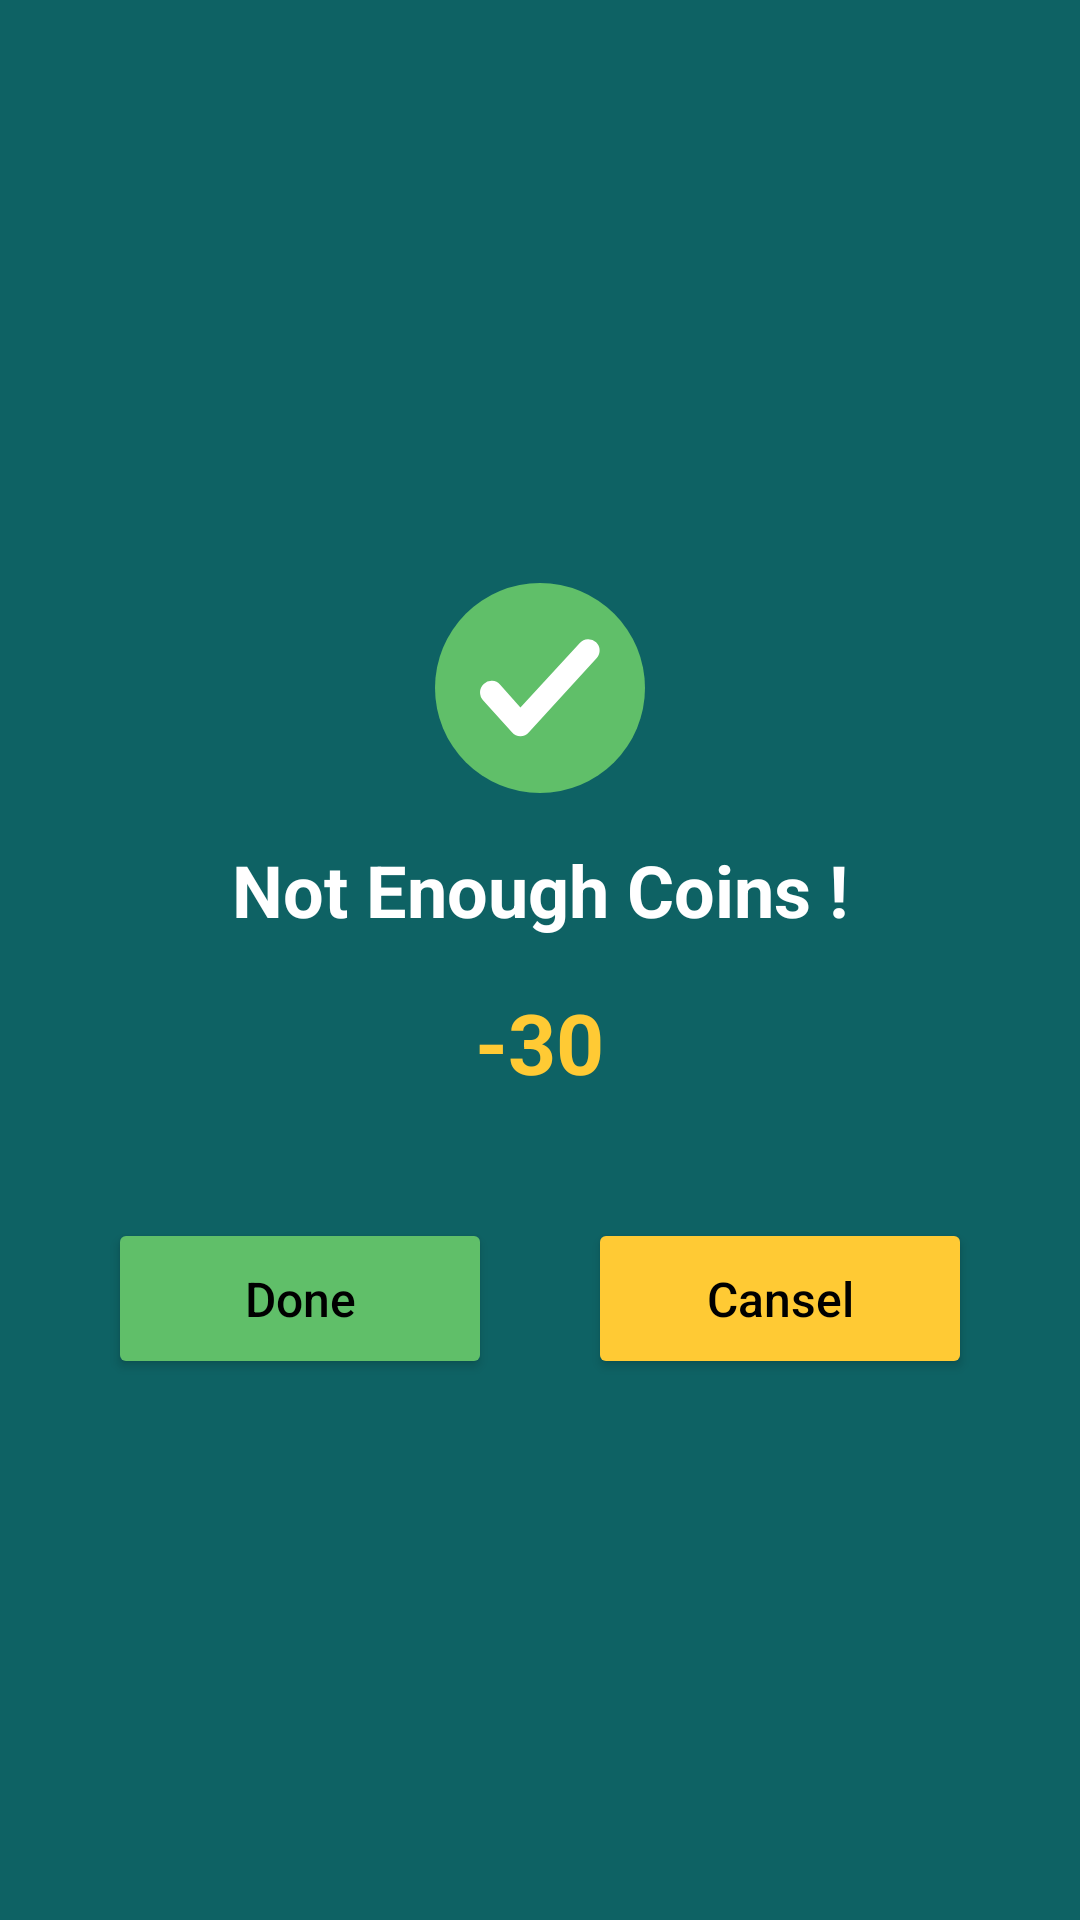

Where icons sit on this 1080w x 1920h app screen, as (x1, y1, x2, y2):
tick: (435, 583, 645, 793)
